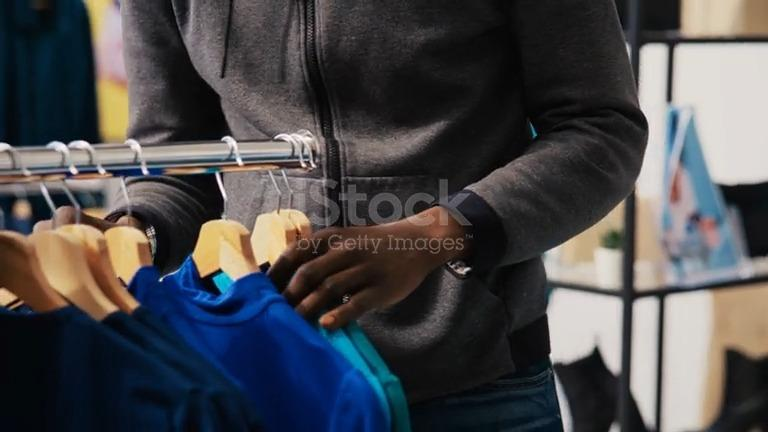Non shoplifting: (103, 1, 676, 430)
